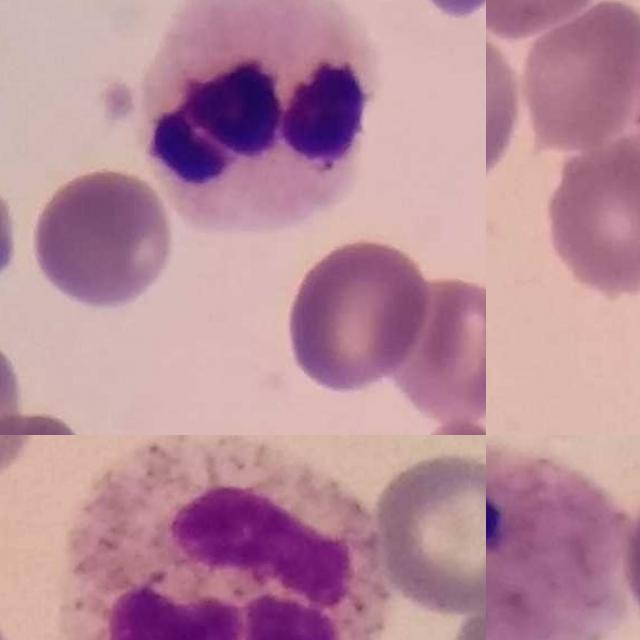Neutrophil: (56, 435, 389, 640), (142, 0, 374, 227), (486, 437, 631, 640)
